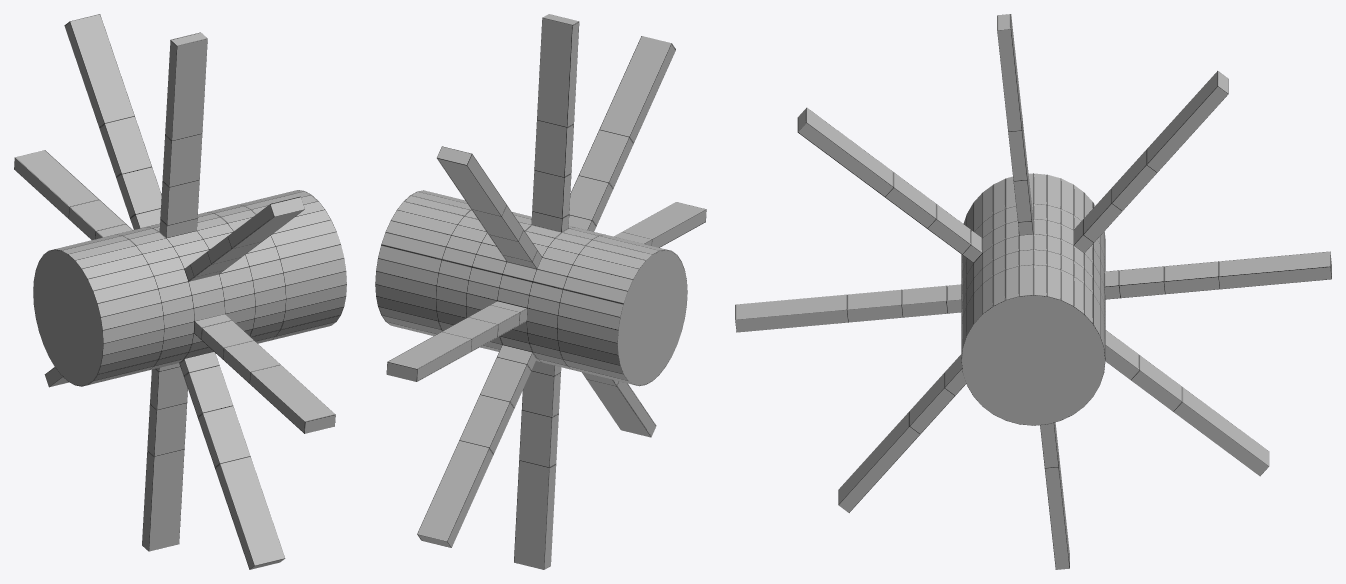
Rendered from fan.obj.
3 renders of one model, left to right at view 1: azimuth 30°, elevation 25°; view 2: azimuth 150°, elevation 25°; view 3: azimuth 270°, elevation 25°, orthographic. The views are drawn at different scales.
Visible parts, largest first — view 1: Cylinder; view 2: Cylinder; view 3: Cylinder.
Part boxes in pixels (box(x1,y1,x2,y2)): Cylinder: box(14, 14, 346, 569); Cylinder: box(375, 14, 706, 569); Cylinder: box(735, 14, 1331, 569).
Size of the model in its own units: 2 by 4.14 by 4.14.
Materials: 1 (1 with a texture image).
